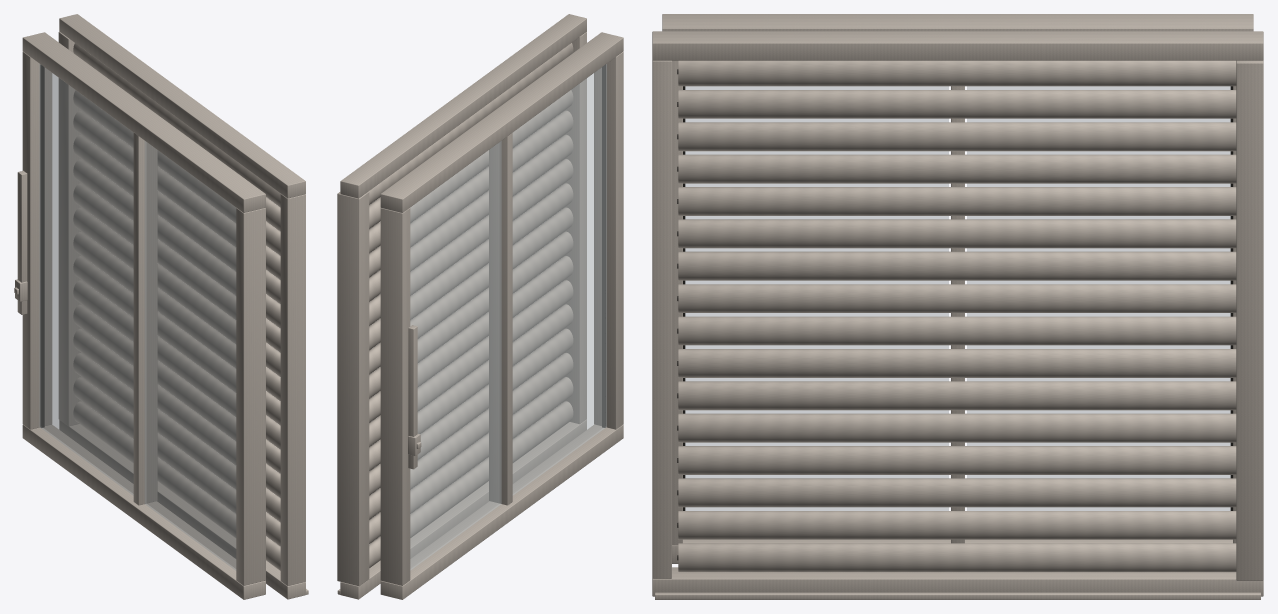
The model's file is ub-louver.glb.
3 views of the same model, side by side, from view 1: azimuth 30°, elevation 25°; view 2: azimuth 150°, elevation 25°; view 3: azimuth 270°, elevation 25° (orthographic). The views are drawn at different scales.
Visible parts, largest first — view 1: Glass_S, Glass_N, Sash_North, Frame_North, Sash_South, Sash_Mullion, Sash_Head, Sash_Sill, Frame_Head, Frame_South, Frame_Sill, BladeMesh_01 (+16 smaller); view 2: Glass_N, Glass_S, Frame_South, Sash_South, Sash_North, Sash_Mullion, Sash_Head, Sash_Sill, Frame_Head, Frame_North, Frame_Sill, BladeMesh_12 (+16 smaller); view 3: Frame_Head, BladeMesh_02, BladeMesh_10, BladeMesh_00, BladeMesh_04, BladeMesh_05, BladeMesh_07, BladeMesh_09, BladeMesh_12, BladeMesh_13, BladeMesh_01, BladeMesh_03 (+15 smaller).
Boxes of the visible parts, x1,y1,x2,y2 form: Glass_S: (39, 64, 133, 495); Glass_N: (144, 141, 236, 570); Sash_North: (236, 208, 265, 585); Frame_North: (280, 194, 305, 585); Sash_South: (22, 51, 52, 429); Sash_Mullion: (133, 133, 157, 505); Sash_Head: (22, 32, 265, 212); Sash_Sill: (22, 424, 265, 599); Frame_Head: (59, 14, 305, 198); Frame_South: (58, 31, 81, 426); Frame_Sill: (59, 420, 305, 599); BladeMesh_01: (73, 377, 280, 546); Glass_N: (512, 64, 606, 495); Glass_S: (410, 141, 501, 570); Frame_South: (337, 191, 369, 586); Sash_South: (380, 208, 410, 585); Sash_North: (594, 51, 623, 429); Sash_Mullion: (489, 133, 512, 505); Sash_Head: (380, 32, 623, 212); Sash_Sill: (380, 424, 623, 599); Frame_Head: (340, 14, 586, 198); Frame_North: (564, 32, 586, 423); Frame_Sill: (340, 419, 586, 599); BladeMesh_12: (369, 110, 573, 277); Frame_Head: (652, 31, 1263, 60); BladeMesh_02: (678, 478, 1236, 507); BladeMesh_10: (678, 219, 1236, 248); BladeMesh_00: (678, 543, 1236, 572); BladeMesh_04: (678, 413, 1236, 442); BladeMesh_05: (678, 381, 1236, 410); BladeMesh_07: (678, 316, 1236, 345); BladeMesh_09: (678, 251, 1236, 280); BladeMesh_12: (678, 154, 1236, 183); BladeMesh_13: (678, 122, 1236, 151); BladeMesh_01: (678, 511, 1236, 539); BladeMesh_03: (678, 446, 1236, 474).
Size of the model in its own units: 0.233 by 1.24 by 1.24.
4 materials, 2 textured.
